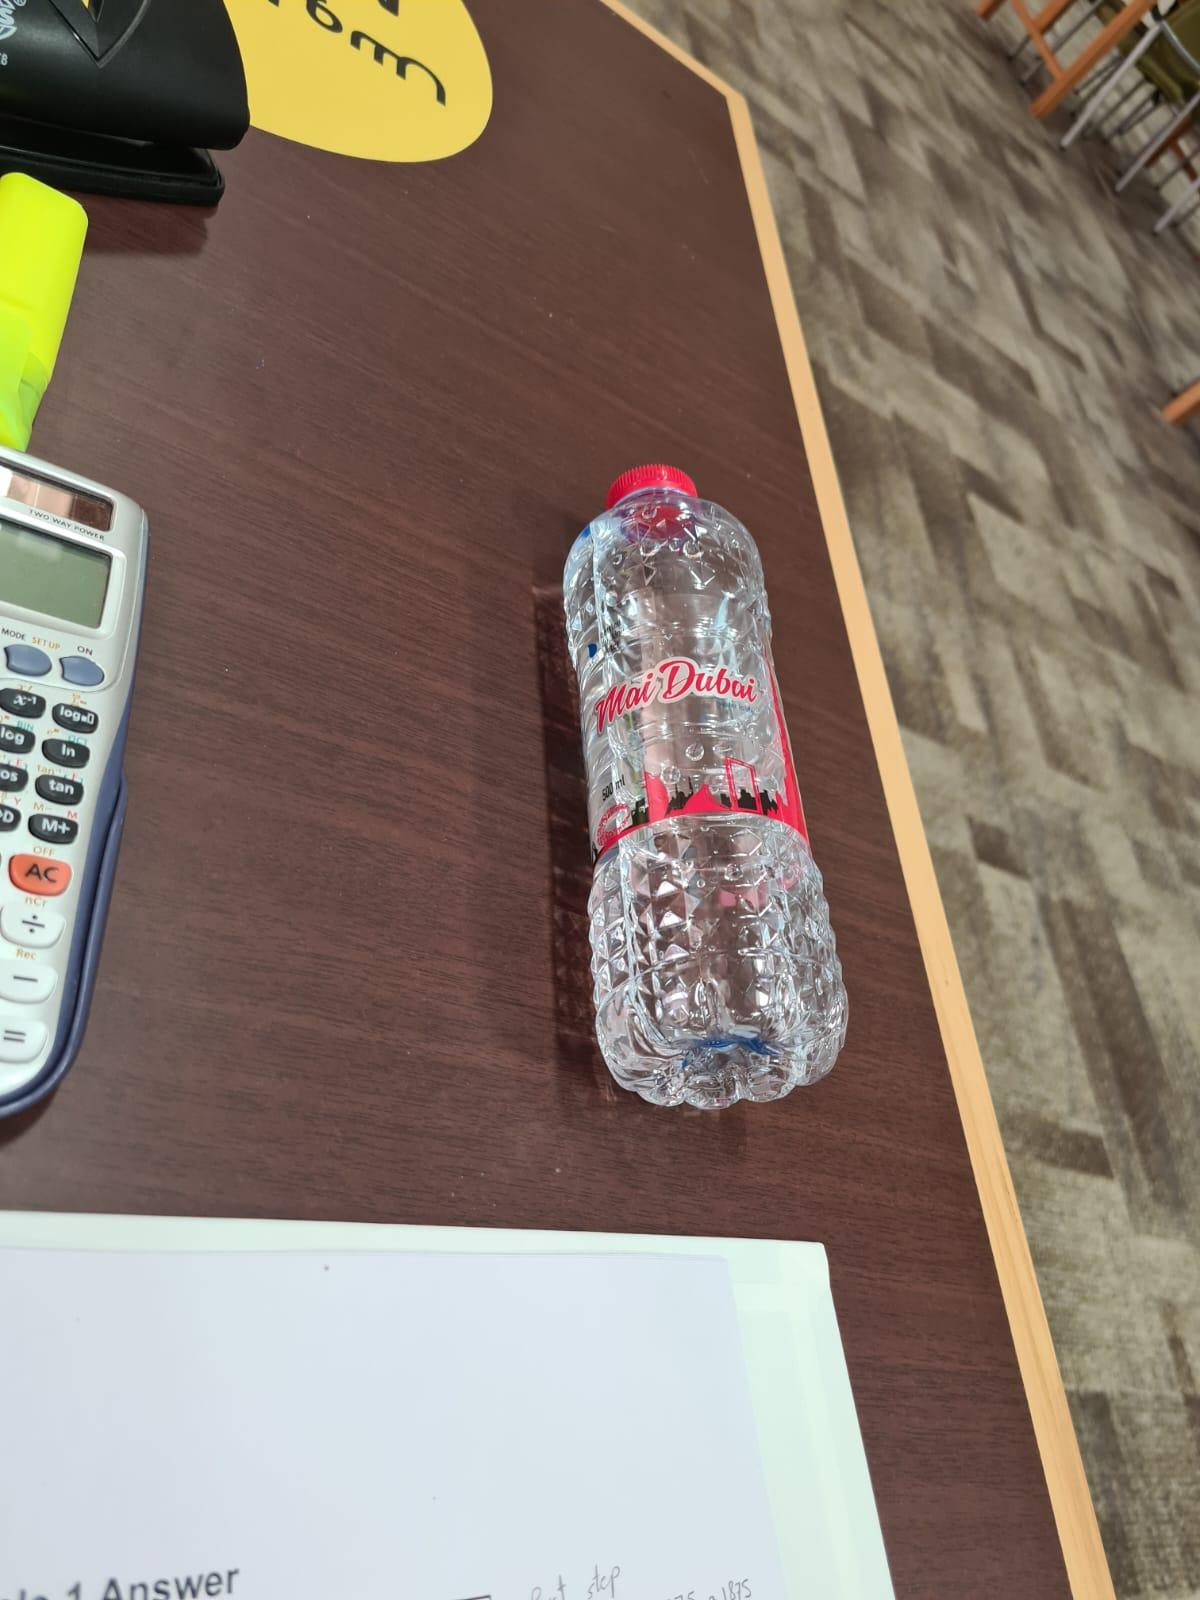bottle: (516, 461, 860, 1128)
